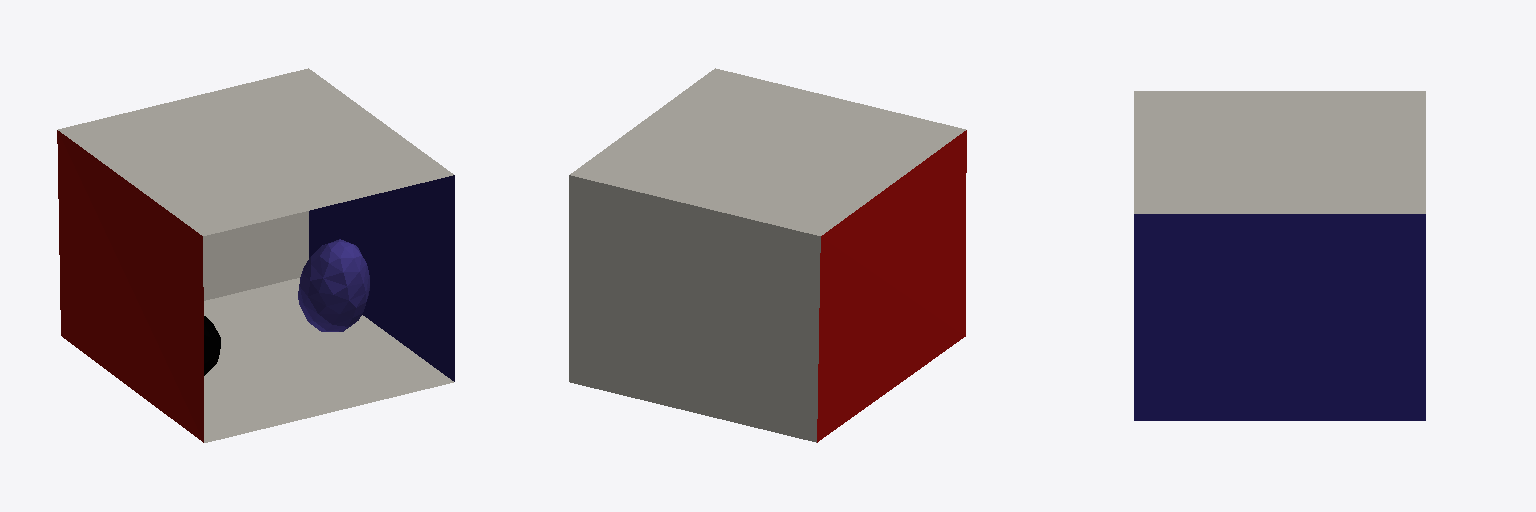
File: CornellBox-Ellipsoid-519.obj
The picture shows the model from 3 angles: view 1: azimuth 30°, elevation 25°; view 2: azimuth 150°, elevation 25°; view 3: azimuth 270°, elevation 25°; orthographic projection.
Parts seen in each view (by area): view 1: ceiling, leftWall, floor, rightWall, backWall, leftSphere, rightSphere; view 2: backWall, ceiling, leftWall; view 3: rightWall, ceiling.
Part boxes in pixels (x1,y1,x2,y2): ceiling: (58, 68, 453, 235); leftWall: (57, 130, 203, 442); floor: (204, 278, 453, 442); rightWall: (309, 175, 454, 381); backWall: (203, 211, 308, 300); leftSphere: (298, 239, 369, 331); rightSphere: (204, 316, 220, 375); backWall: (569, 175, 820, 442); ceiling: (570, 68, 965, 235); leftWall: (817, 130, 966, 442); rightWall: (1134, 214, 1425, 420); ceiling: (1134, 91, 1425, 213).
Size of the model in its own units: 2.02 by 1.59 by 2.03.